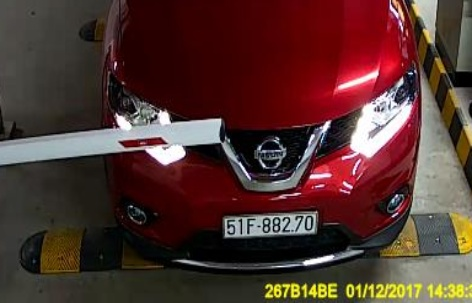plate: (220, 209, 319, 239)
